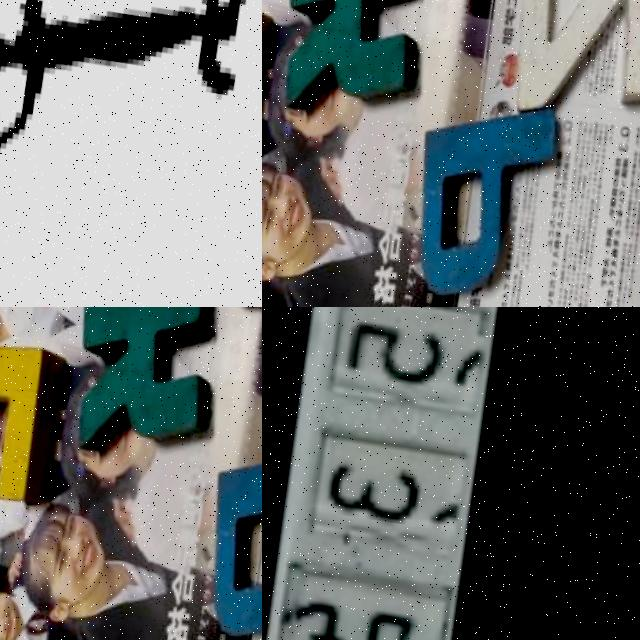3: (305, 447, 426, 534)
4: (262, 573, 351, 640)
5: (323, 307, 450, 392), (342, 592, 450, 640)
H: (0, 0, 262, 155)
K: (59, 307, 224, 472), (266, 0, 431, 131)
L: (0, 323, 65, 514)
P: (393, 90, 571, 307), (186, 431, 262, 640)
Z: (491, 0, 640, 141)
